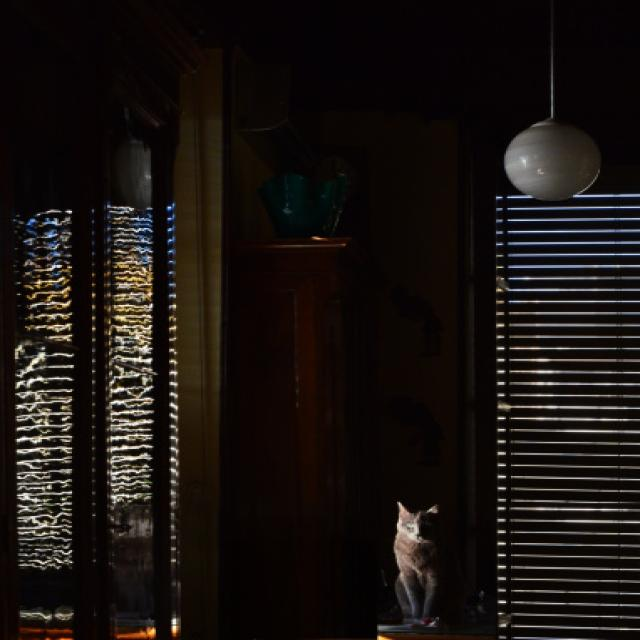Cat: (345, 459, 489, 639)
Table: (202, 219, 400, 640)
